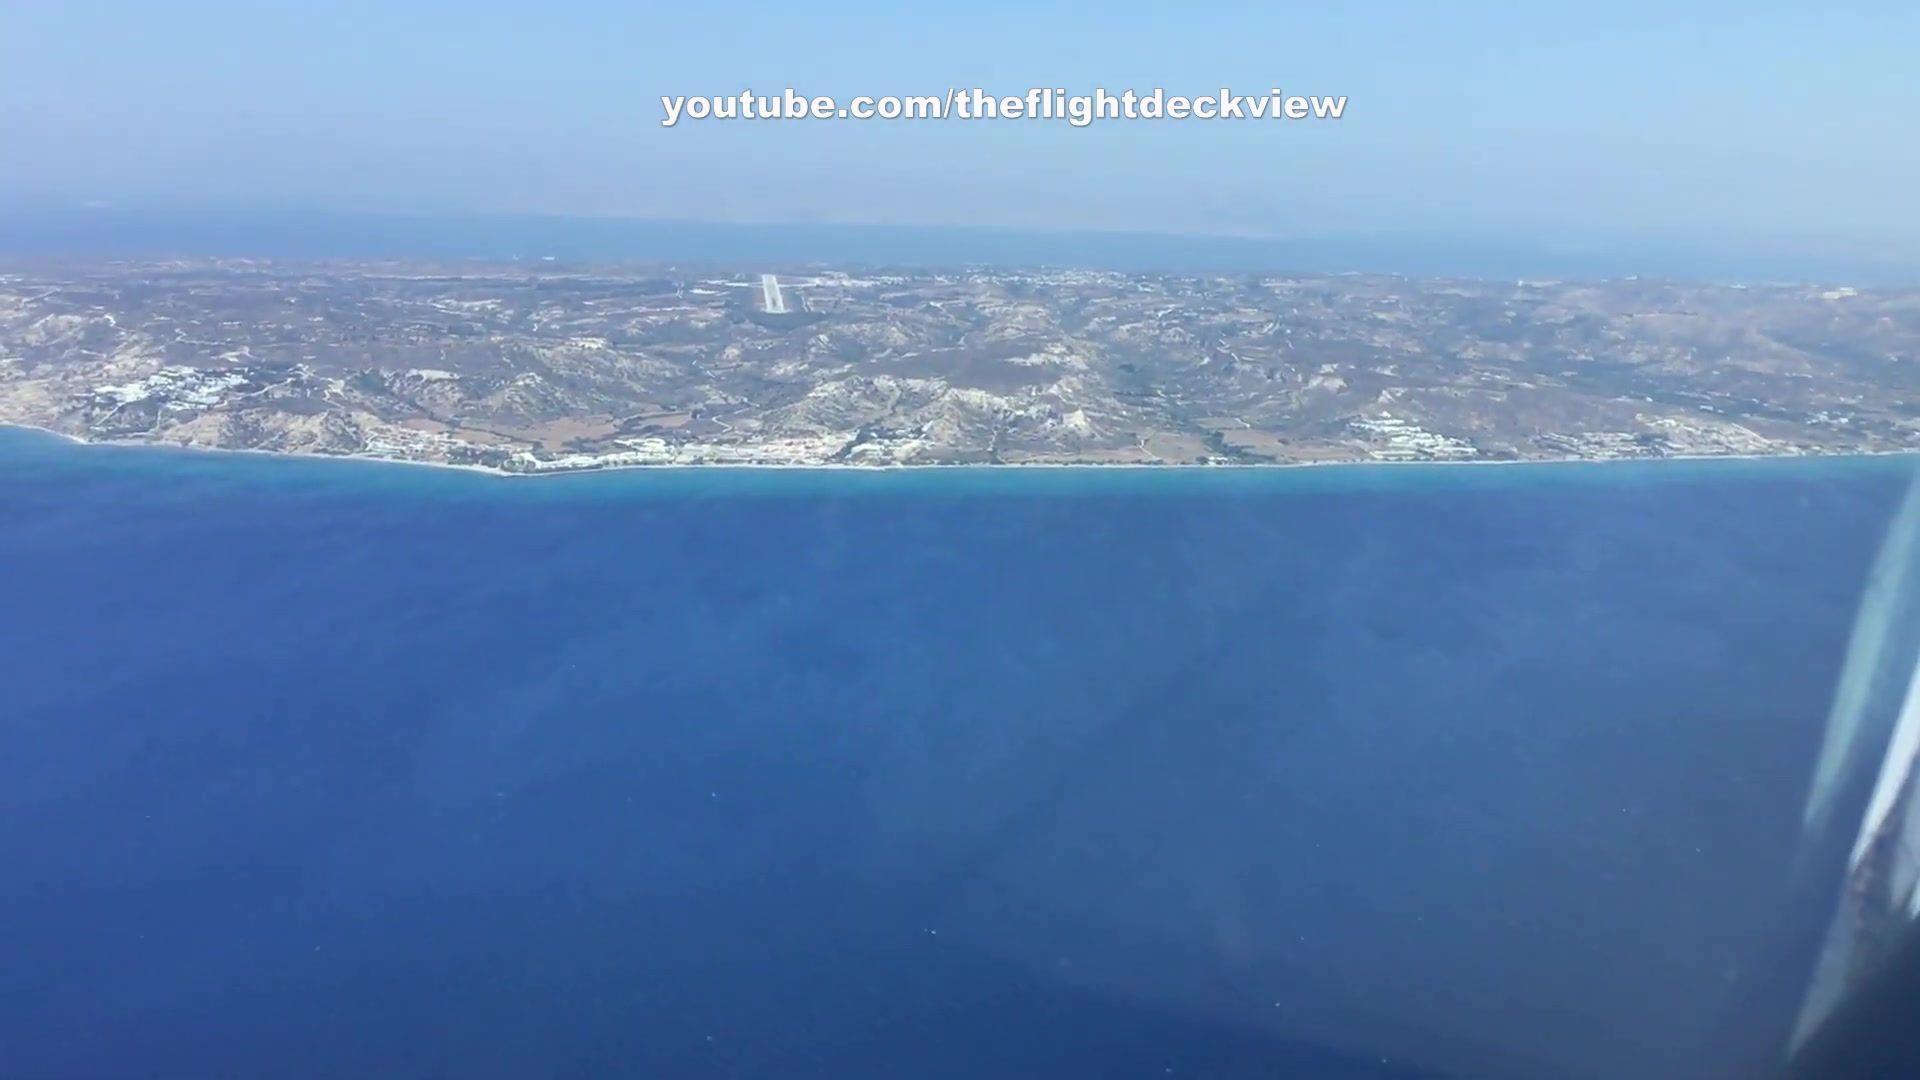runway: (760, 272, 786, 315)
